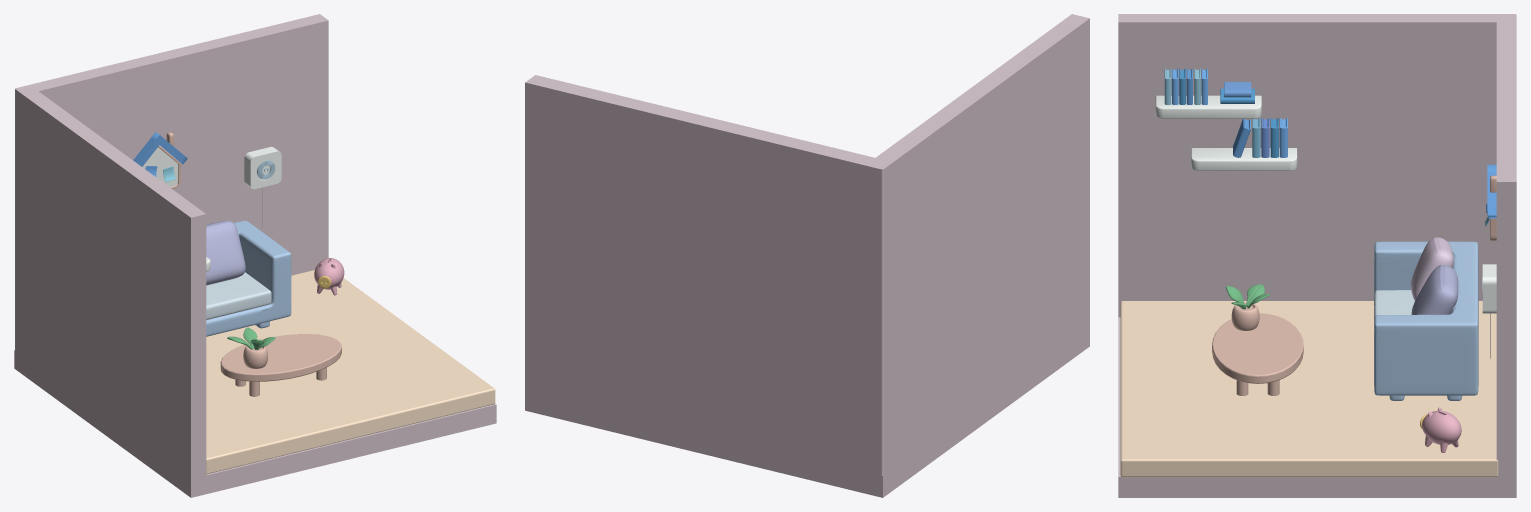
Rendered from basicRoomFull.glb.
The picture shows the model from 3 angles, left to right: view 1: azimuth 30°, elevation 25°; view 2: azimuth 150°, elevation 25°; view 3: azimuth 270°, elevation 25°; orthographic projection. The views are drawn at different scales.
Visible parts, largest first — view 1: Plane.002, Plane.001, Plane.009, Plane.003, Cube.101, Sphere.010, Cube.103, Cube.105; view 2: Plane.002, Plane.009; view 3: Plane.002, Plane.001, Plane.009, Plane.003, Cube.086, Cube.088, Sphere.010, Cube.101, Cube.100, Cube.087.
Boxes of the visible parts, box(x1,y1,x2,y2) form: Plane.002: box(15, 14, 496, 496); Plane.001: box(206, 270, 495, 474); Plane.009: box(14, 220, 496, 497); Plane.003: box(220, 334, 341, 381); Cube.101: box(244, 146, 281, 189); Sphere.010: box(314, 258, 344, 295); Cube.103: box(133, 132, 187, 166); Cube.105: box(142, 147, 178, 186); Plane.002: box(525, 14, 1089, 494); Plane.009: box(525, 325, 1089, 497); Plane.002: box(1118, 14, 1516, 497); Plane.001: box(1120, 301, 1498, 477); Plane.009: box(1118, 237, 1516, 497); Plane.003: box(1212, 313, 1303, 383); Cube.086: box(1191, 148, 1297, 170); Cube.088: box(1155, 95, 1261, 118); Sphere.010: box(1422, 407, 1461, 452); Cube.101: box(1482, 264, 1496, 313); Cube.100: box(1224, 82, 1251, 97); Cube.087: box(1233, 118, 1250, 157).
Bounding box in the file's own units: 4 × 3.5 × 4.
